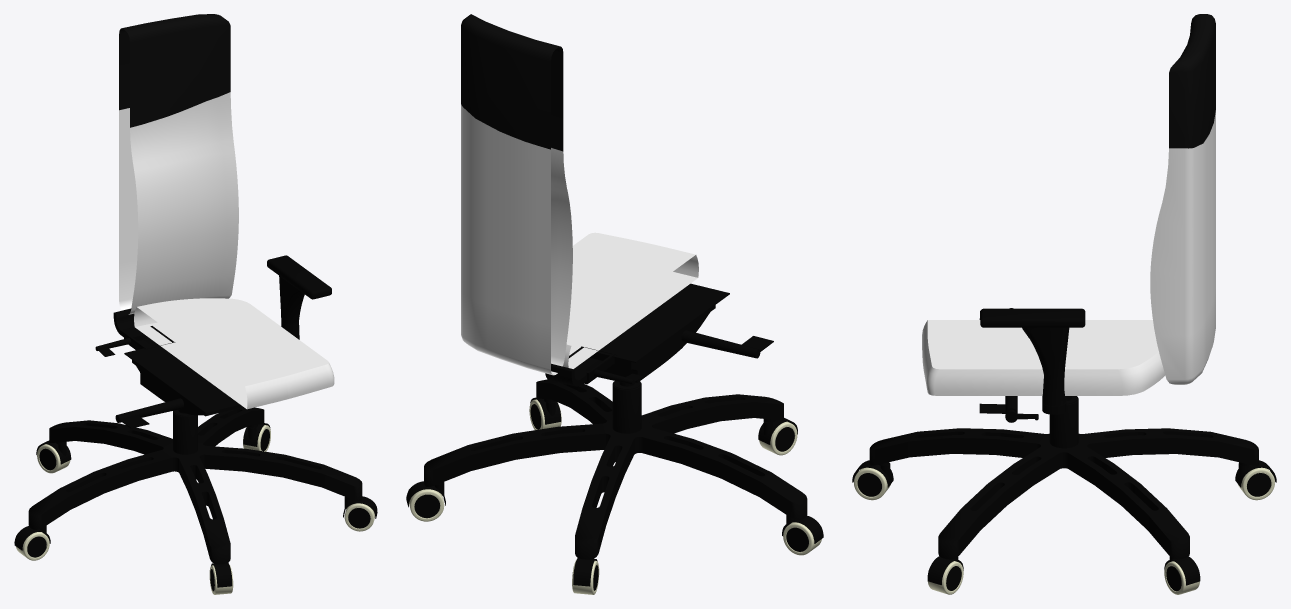
Rendered from officechair.glb.
3 renders of one model, left to right at view 1: azimuth 30°, elevation 25°; view 2: azimuth 150°, elevation 25°; view 3: azimuth 270°, elevation 25°, orthographic. The views are drawn at different scales.
Visible parts, largest first — view 1: Plane.001, Cylinder.001, Plane.002, Cube, Cylinder.010, Cylinder.006, Cylinder, Cylinder.003, Cylinder.005, Cylinder.007, Cylinder.002, Cylinder.004 (+1 smaller); view 2: Plane.001, Cylinder.001, Plane.002, Cube, Cylinder.006, Cylinder, Cylinder.004, Cylinder.007, Cylinder.002, Cylinder.005, Cylinder.003, Cube.001; view 3: Plane.001, Cylinder.001, Plane.002, Cylinder.010, Cylinder.006, Cylinder.002, Cylinder.005, Cylinder.004, Cylinder.003, Cylinder.007.
Part boxes in pixels (bbox=[...]): Plane.001: bbox=[119, 14, 238, 314]; Cylinder.001: bbox=[28, 407, 362, 564]; Plane.002: bbox=[134, 298, 334, 409]; Cube: bbox=[124, 326, 242, 416]; Cylinder.010: bbox=[267, 255, 331, 339]; Cylinder.006: bbox=[173, 410, 197, 454]; Cylinder: bbox=[14, 525, 50, 560]; Cylinder.003: bbox=[343, 496, 377, 531]; Cylinder.005: bbox=[36, 440, 71, 473]; Cylinder.007: bbox=[115, 398, 183, 428]; Cylinder.002: bbox=[209, 563, 233, 594]; Cylinder.004: bbox=[243, 423, 270, 451]; Plane.001: bbox=[461, 14, 572, 375]; Cylinder.001: bbox=[424, 379, 807, 559]; Plane.002: bbox=[562, 232, 698, 368]; Cube: bbox=[568, 283, 729, 384]; Cylinder.006: bbox=[612, 381, 641, 433]; Cylinder: bbox=[782, 515, 823, 555]; Cylinder.004: bbox=[406, 481, 445, 521]; Cylinder.007: bbox=[681, 330, 773, 358]; Cylinder.002: bbox=[758, 418, 797, 455]; Cylinder.005: bbox=[572, 558, 599, 594]; Cylinder.003: bbox=[529, 397, 561, 430]; Cube.001: bbox=[545, 363, 588, 386]; Plane.001: bbox=[1150, 14, 1215, 384]; Cylinder.001: bbox=[869, 428, 1258, 559]; Plane.002: bbox=[922, 320, 1165, 395]; Cylinder.010: bbox=[980, 308, 1085, 414]; Cylinder.006: bbox=[1049, 396, 1078, 448]; Cylinder.002: bbox=[852, 460, 893, 500]; Cylinder.005: bbox=[1235, 460, 1276, 500]; Cylinder.004: bbox=[1164, 556, 1200, 594]; Cylinder.003: bbox=[927, 556, 963, 594]; Cylinder.007: bbox=[979, 308, 1038, 422].
Size of the model in its own units: 1.87 by 2.6 by 1.96.
